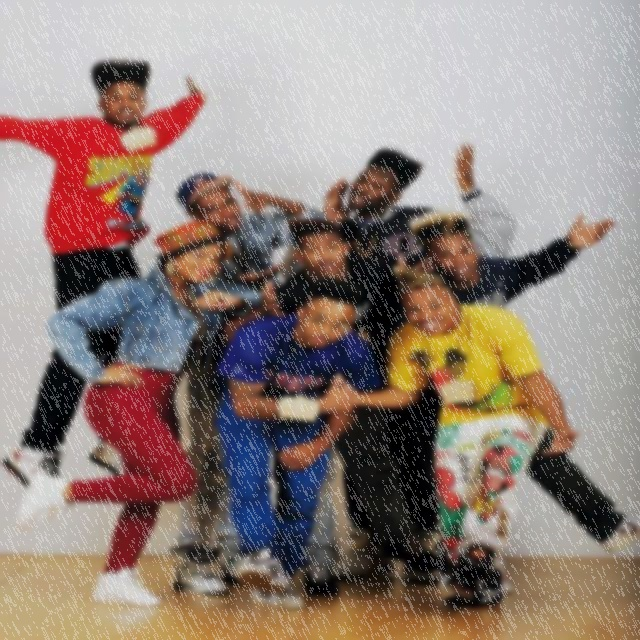pessoa: (10, 215, 268, 610), (386, 198, 638, 599), (314, 144, 522, 586), (323, 262, 583, 615), (1, 56, 213, 487), (215, 216, 442, 584), (164, 170, 331, 596), (198, 270, 386, 612)
